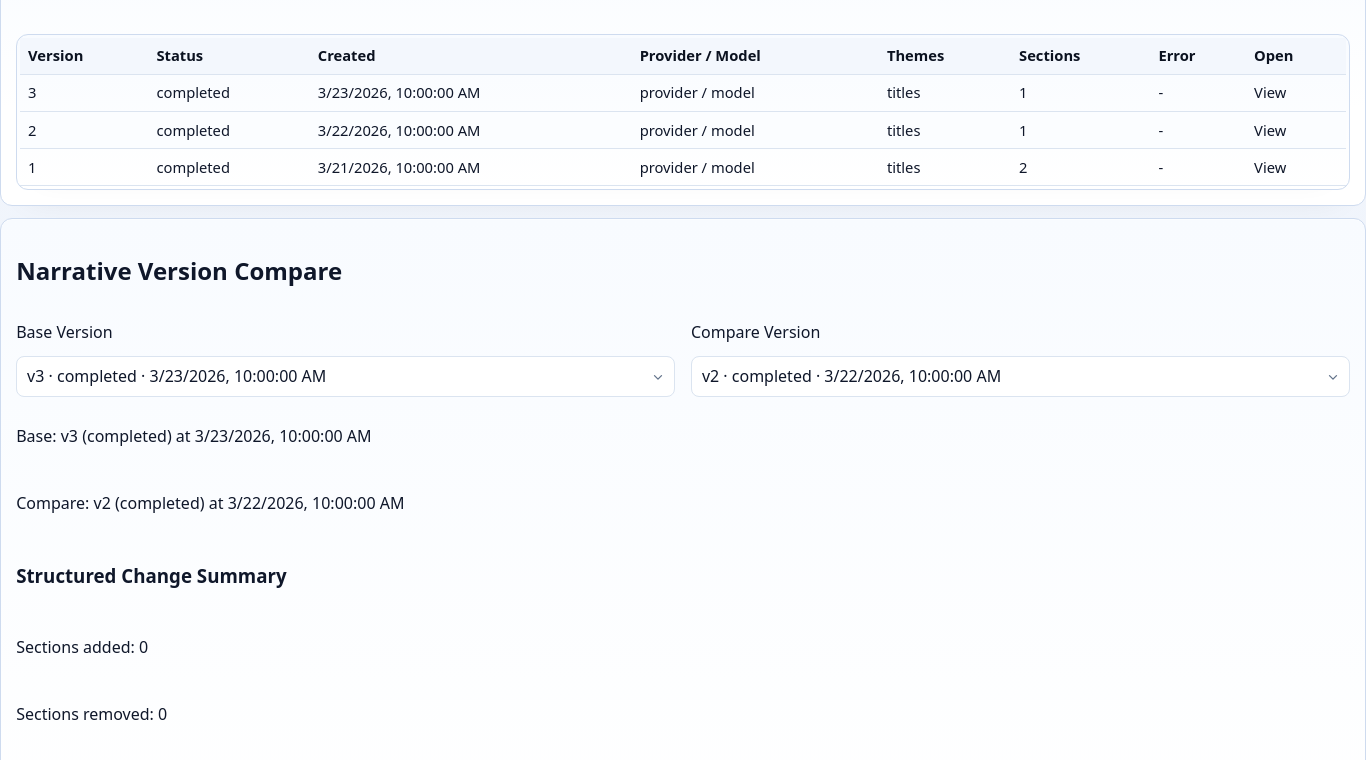
Test case: recommendation narrative history compare › updates compare summary when selecting a different version pair
(page scrolled)
Expected: the heading "Narrative Version Compare" is shown, 16,254 -> 342,287
Expected: the text "Sections removed: 0" is shown, 16,703 -> 167,725
Select "v1 · completed · 3/21/2026, 10:00:00 AM" in the dropdown labelled "Compare Version". click: point(1020, 377)
box: 691,356 -> 1350,397
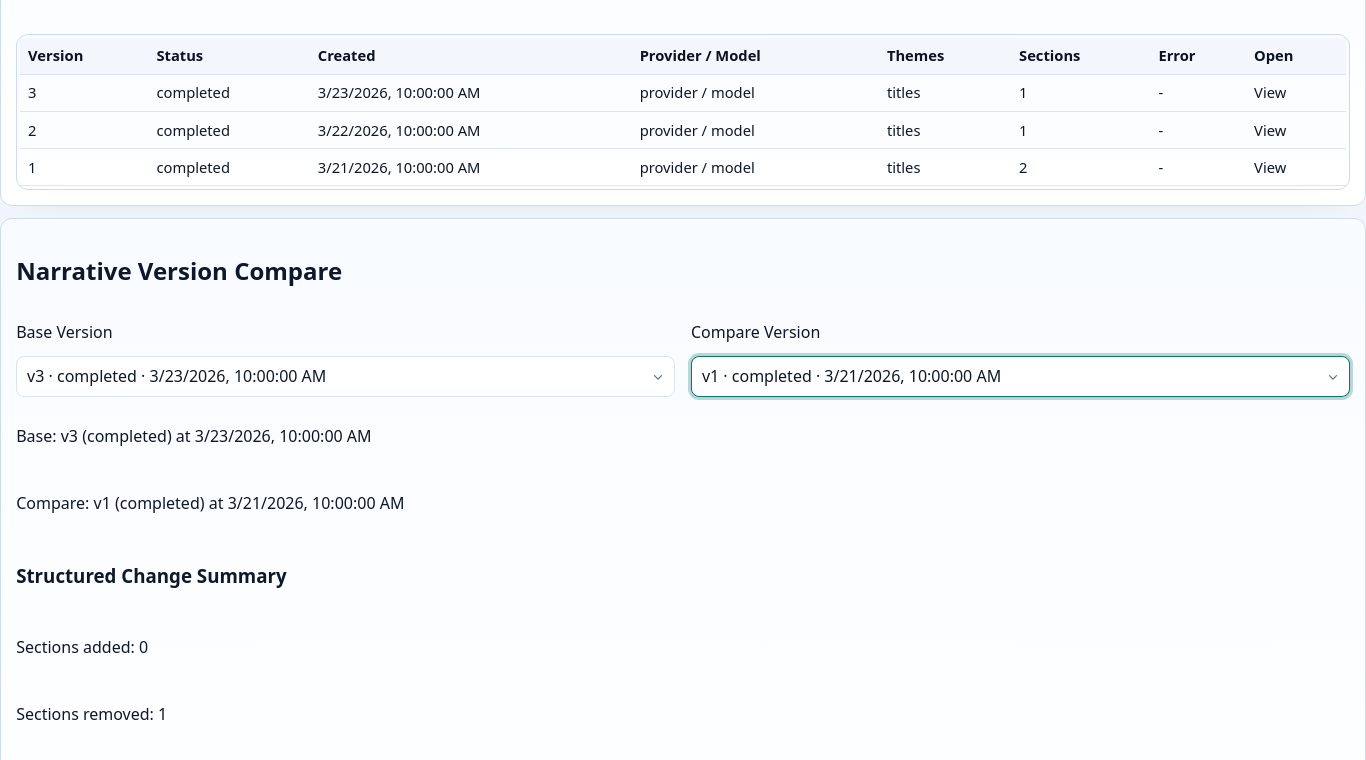
Expected: the text "Sections removed: 1" is shown, 16,703 -> 167,725
